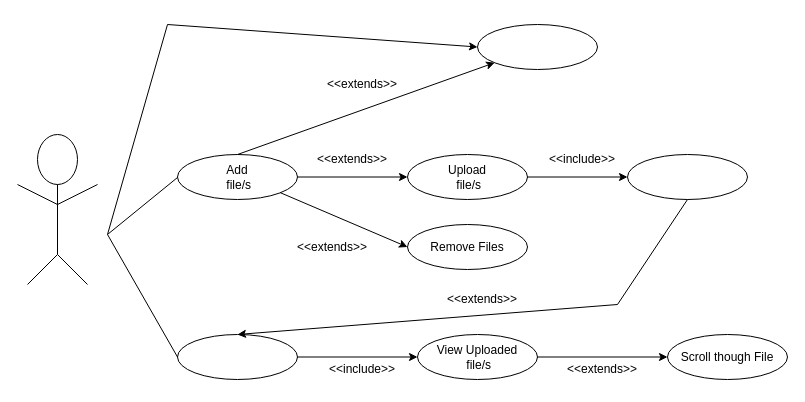
This 805x402 diagram has some shape labels left out. The shapes that lost their labels are listed below. From the top down, each one's centre as x and y in pixels, then its label:
At [537,47]: "Prompt Model".
At [687,177]: "Generate insights".
At [237,357]: "View file information".
